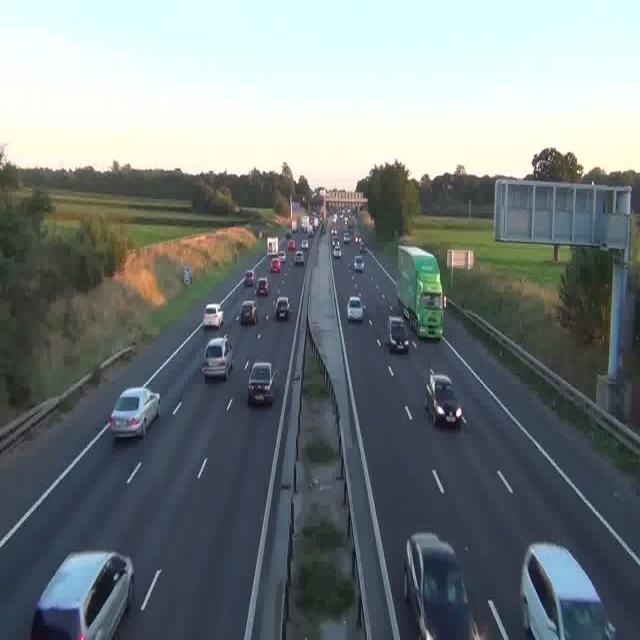car: (520, 541, 614, 640), (30, 549, 132, 640), (403, 533, 481, 640), (110, 389, 160, 439), (424, 372, 464, 427), (202, 337, 232, 380), (247, 362, 276, 405), (387, 316, 410, 353), (202, 302, 224, 329), (238, 300, 258, 326), (347, 296, 363, 322), (275, 296, 291, 319), (242, 270, 254, 287), (353, 255, 363, 272), (270, 258, 282, 272), (293, 250, 304, 263), (332, 244, 342, 258), (360, 241, 368, 252), (354, 235, 362, 246), (331, 232, 338, 243)
truck: (394, 245, 446, 338), (267, 237, 279, 258), (306, 216, 315, 234)
